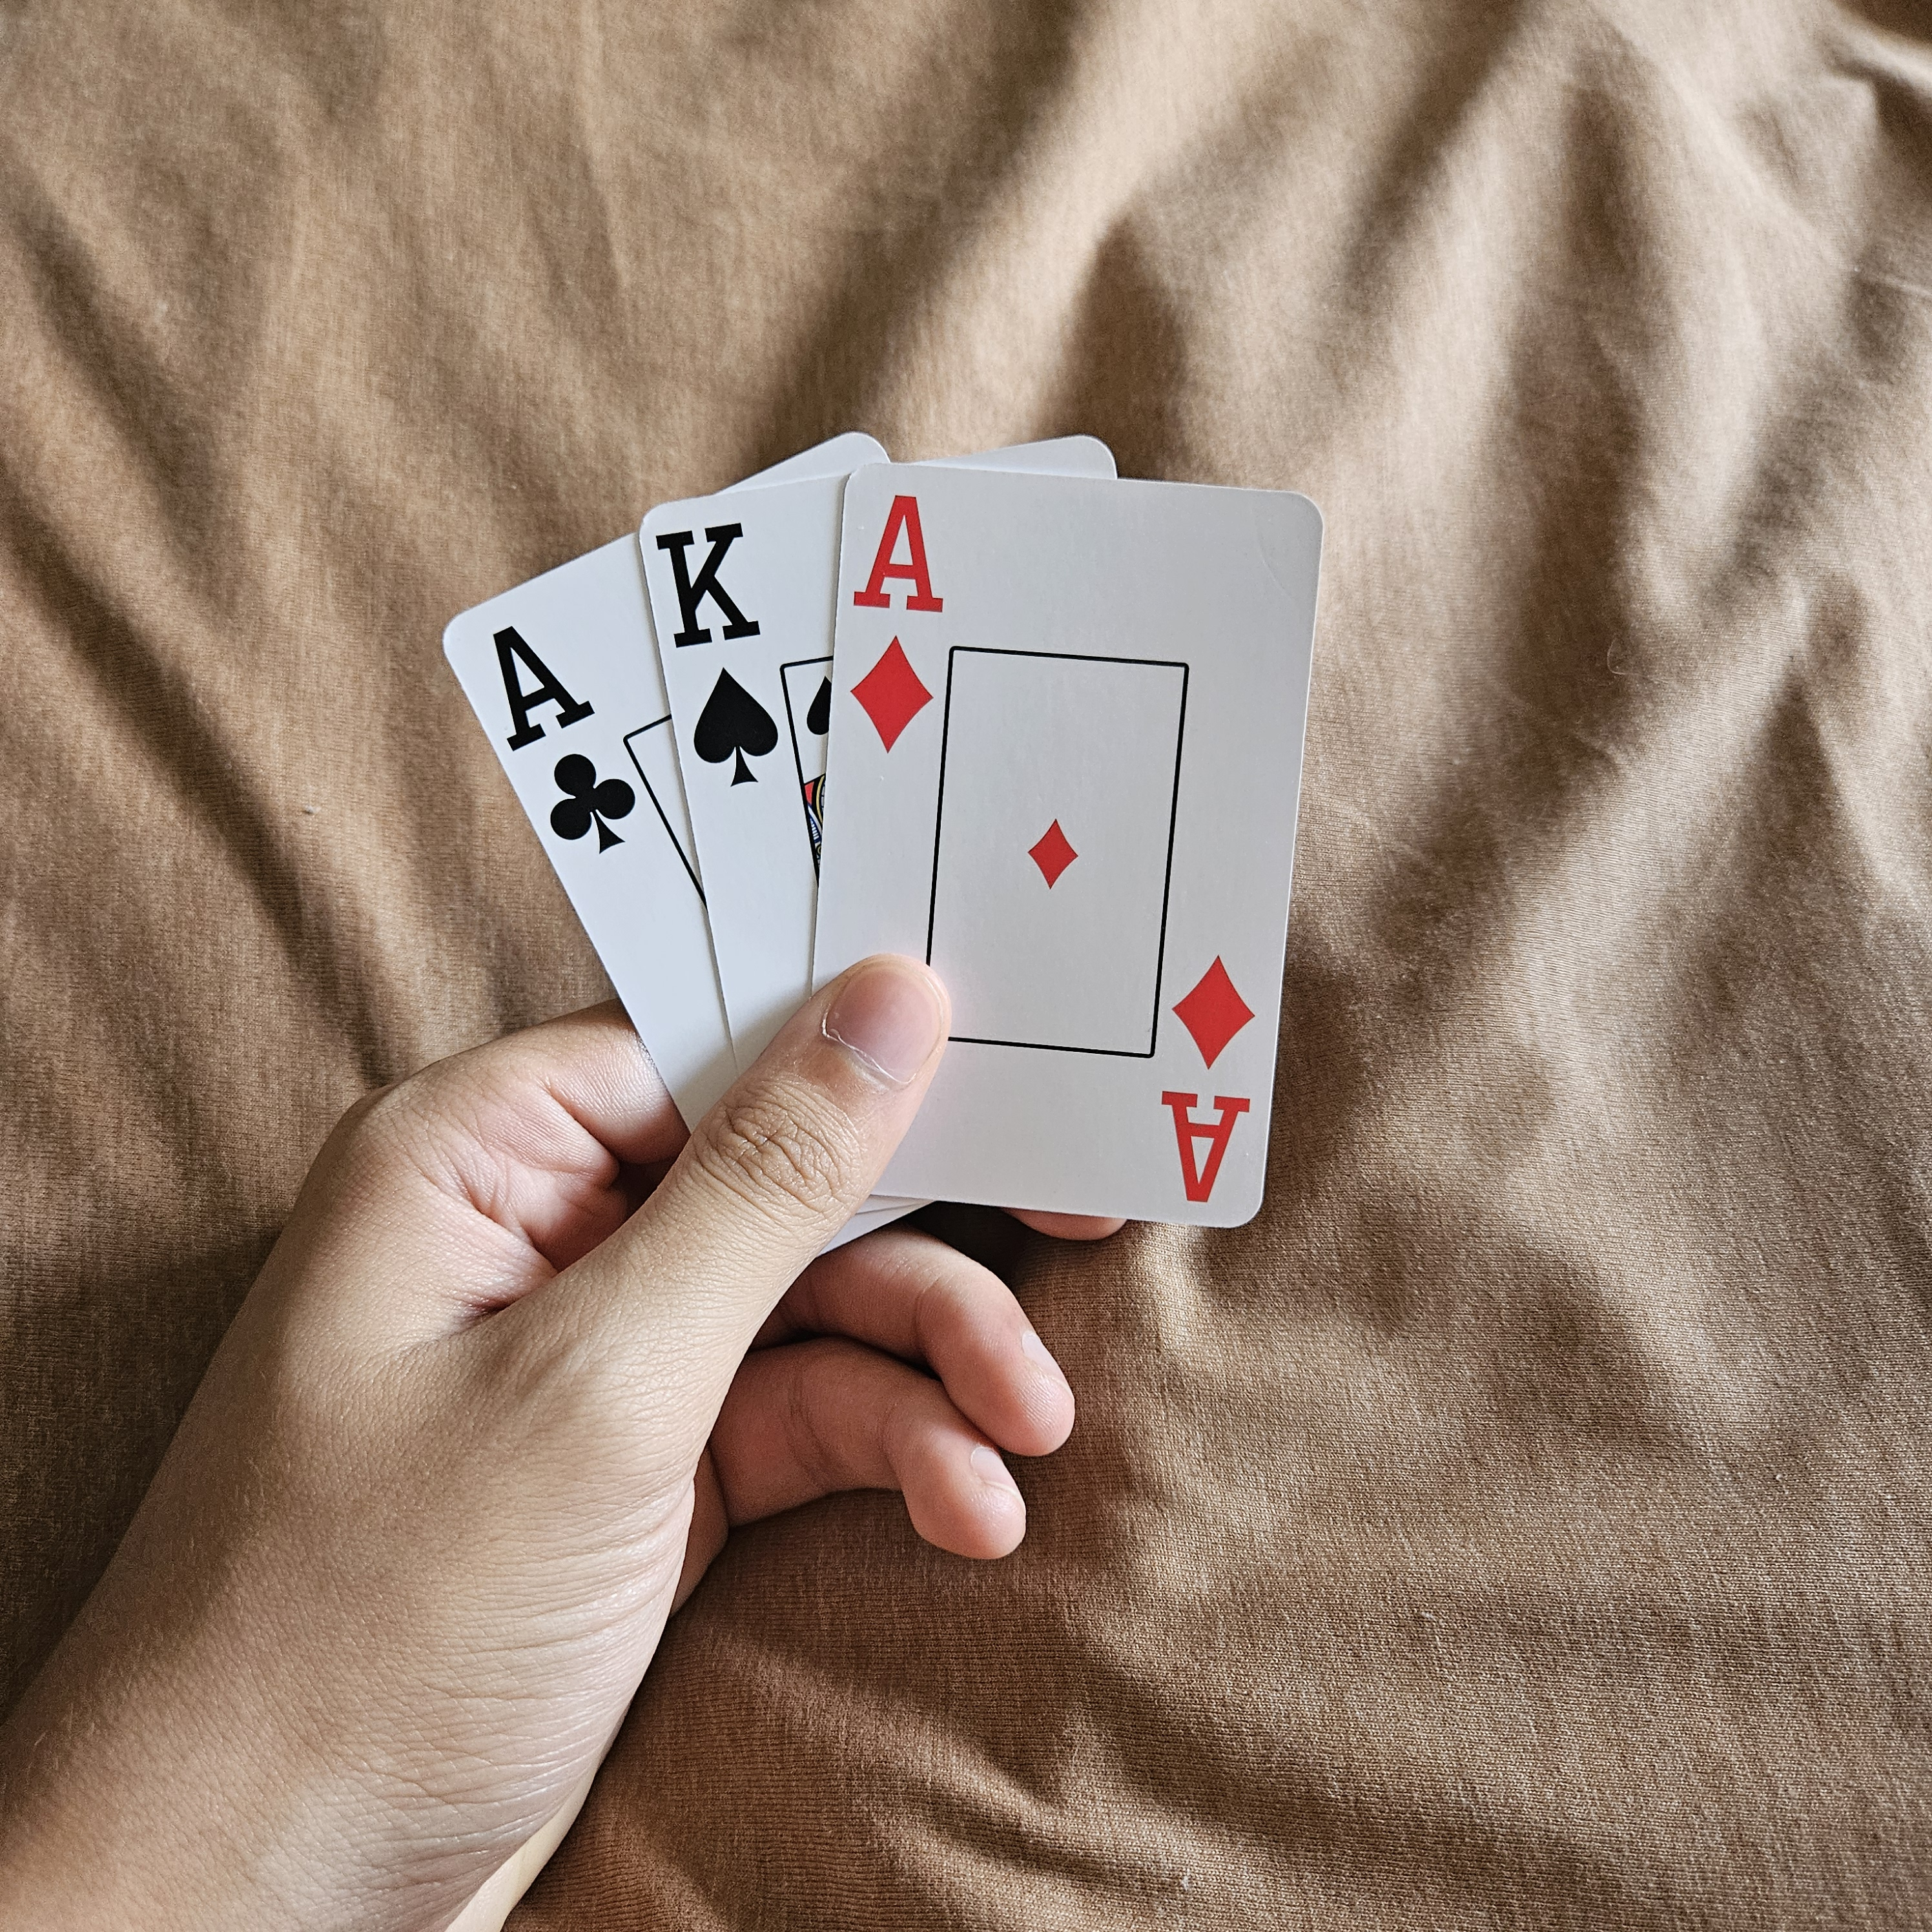AO: (1146, 934, 1274, 1219), (835, 488, 952, 755)
AP: (476, 603, 653, 860)
KE: (644, 510, 793, 794)
